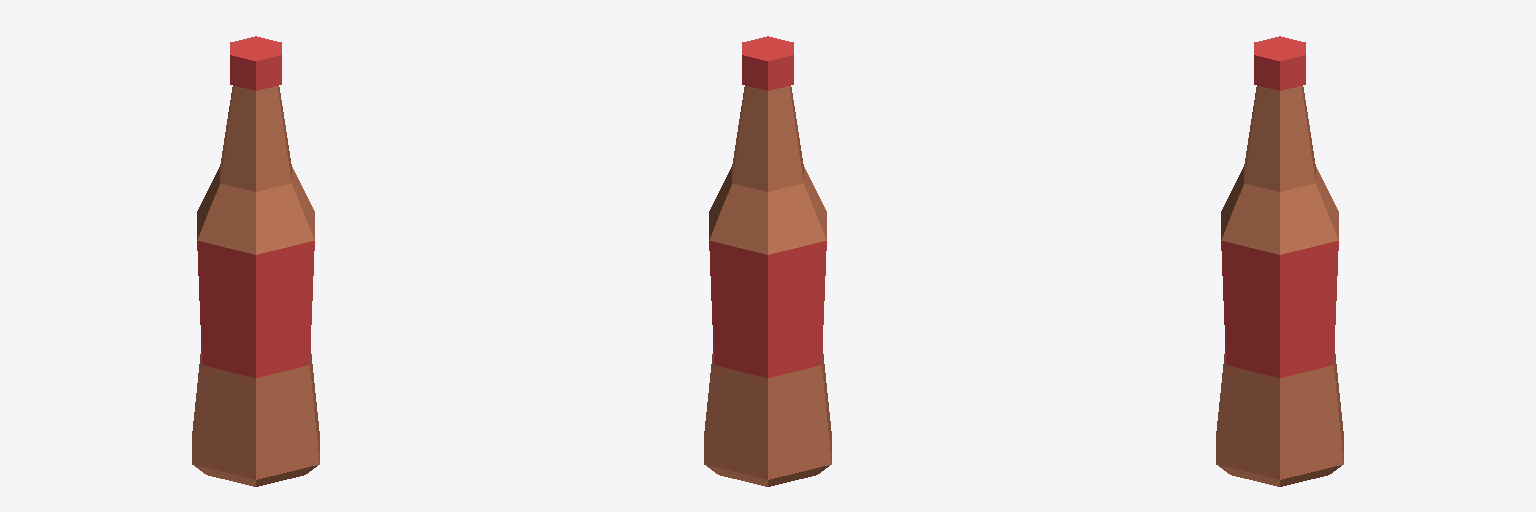
The model's file is sodaBottle.obj.
3 renders of one model, left to right at view 1: azimuth 30°, elevation 25°; view 2: azimuth 150°, elevation 25°; view 3: azimuth 270°, elevation 25°, orthographic.
Parts seen in each view (by area): view 1: sodaBottle; view 2: sodaBottle; view 3: sodaBottle.
Boxes of the visible parts, box(x1,y1,x2,y2) form: sodaBottle: box(192, 36, 319, 486); sodaBottle: box(704, 36, 831, 486); sodaBottle: box(1216, 36, 1343, 486).
Bounding box in the file's own units: 0.1805 × 0.5604 × 0.1563.